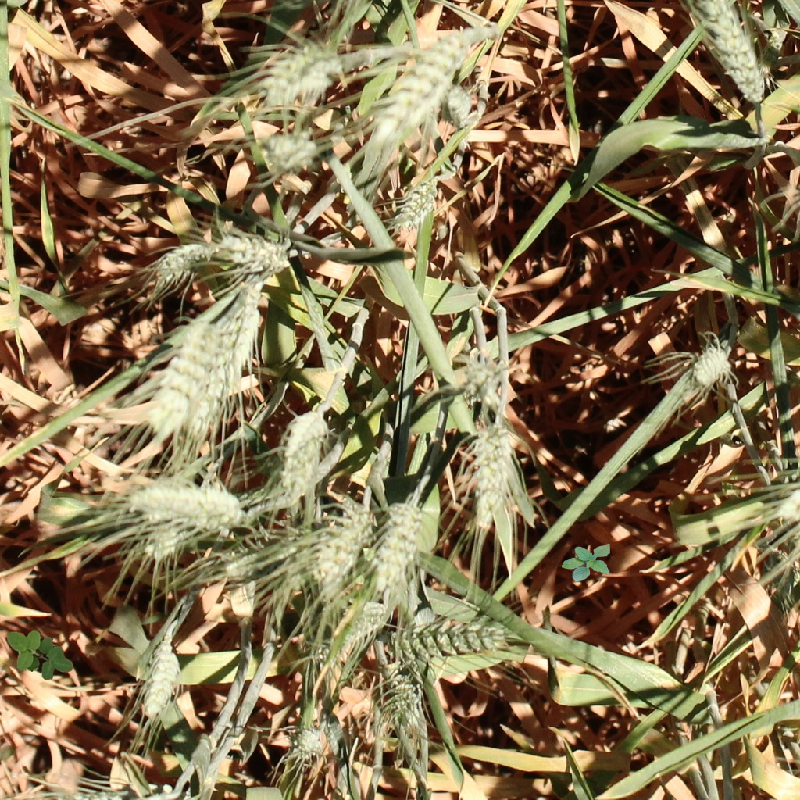spikelet: (371, 32, 467, 142), (146, 319, 231, 435), (696, 1, 768, 105), (390, 614, 509, 666), (311, 498, 372, 593), (130, 481, 245, 531), (469, 420, 518, 528), (372, 499, 426, 591), (261, 43, 339, 106), (316, 598, 388, 666), (276, 409, 329, 499), (217, 230, 291, 275), (140, 643, 183, 719), (392, 175, 441, 233), (153, 240, 212, 282), (383, 663, 422, 726), (261, 131, 318, 173), (690, 339, 733, 389), (140, 522, 189, 560), (459, 356, 502, 398), (443, 83, 476, 128), (288, 726, 326, 761)
weed: (7, 630, 73, 680), (562, 544, 610, 581)
